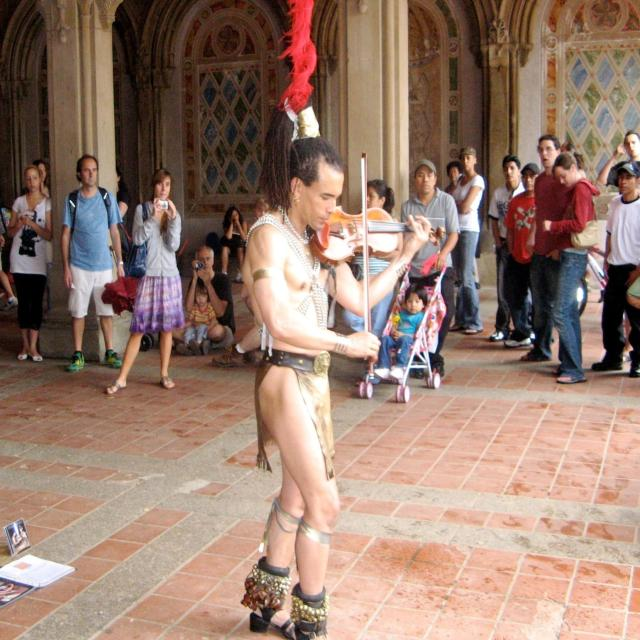violin: (310, 204, 447, 267)
